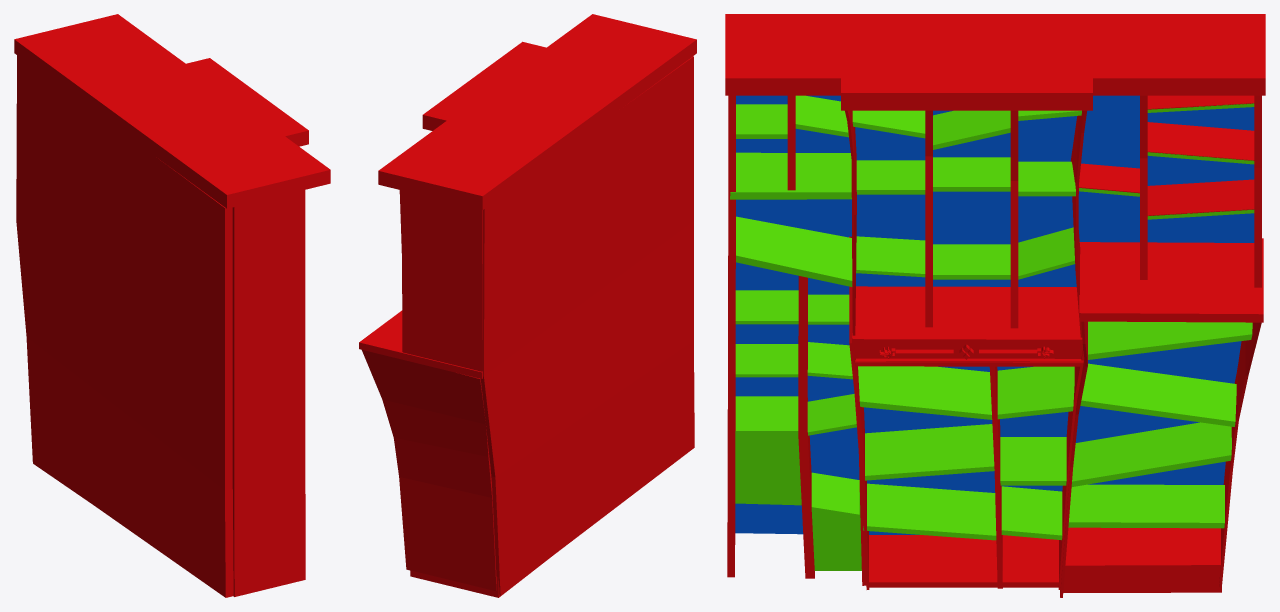
Rendered from WonkyShelfWithMaterials.glb.
The picture shows the model from 3 angles, left to right: view 1: azimuth 30°, elevation 25°; view 2: azimuth 150°, elevation 25°; view 3: azimuth 270°, elevation 25°; orthographic projection. The views are drawn at different scales.
Visible parts, largest first — view 1: Shelf1-Main; view 2: Shelf1-Main; view 3: Shelf1-Main.
Boxes of the visible parts, x1,y1,x2,y2 form: Shelf1-Main: [14, 14, 330, 597]; Shelf1-Main: [359, 14, 696, 597]; Shelf1-Main: [725, 14, 1265, 597].
Bounding box in the file's own units: 2.46 × 7.61 × 7.11.
